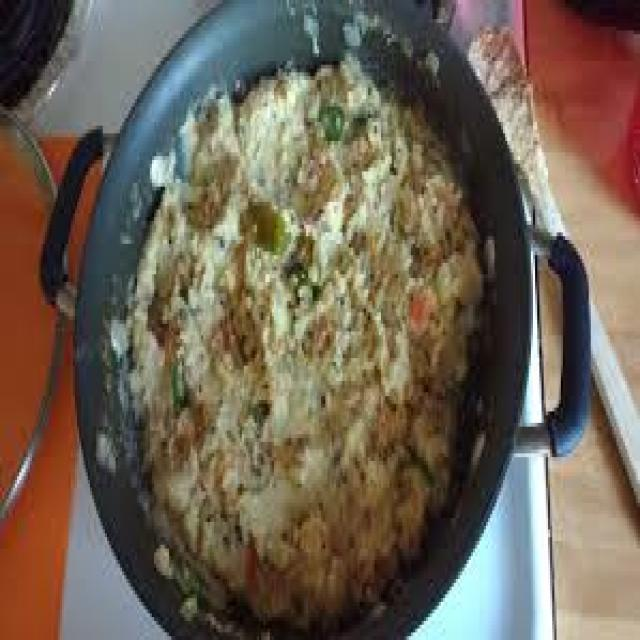UPMA: (129, 64, 472, 610)
